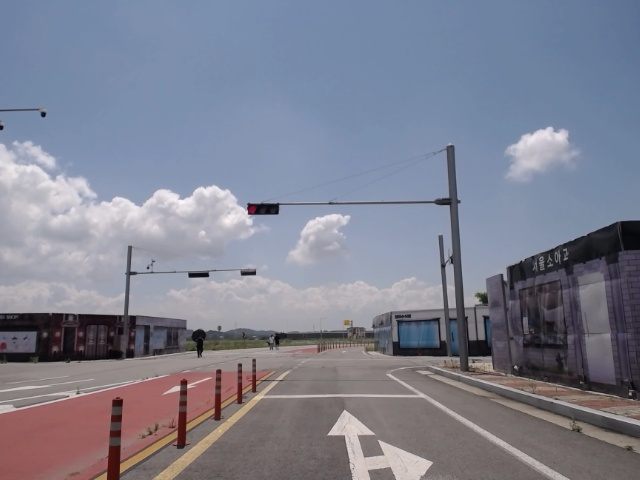red_3: (245, 201, 281, 216)
